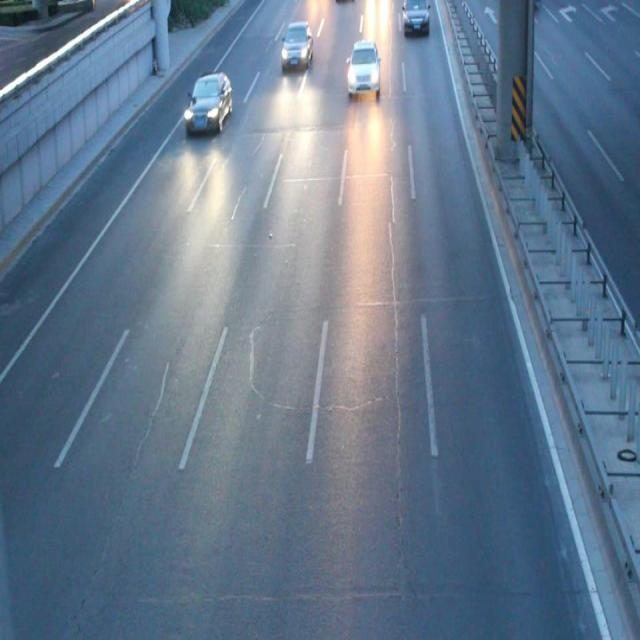car: (183, 73, 232, 132), (346, 41, 380, 98), (280, 22, 313, 70), (402, 2, 429, 34)
